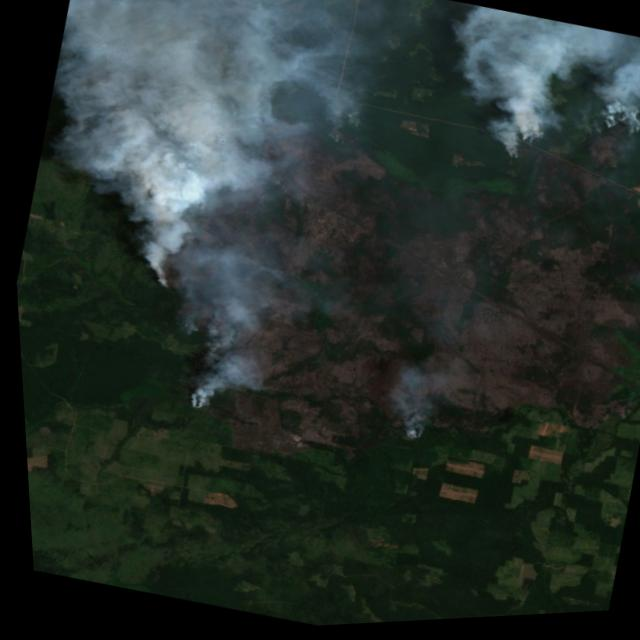fire: (80, 105, 299, 428), (485, 79, 640, 196), (384, 417, 426, 452)
